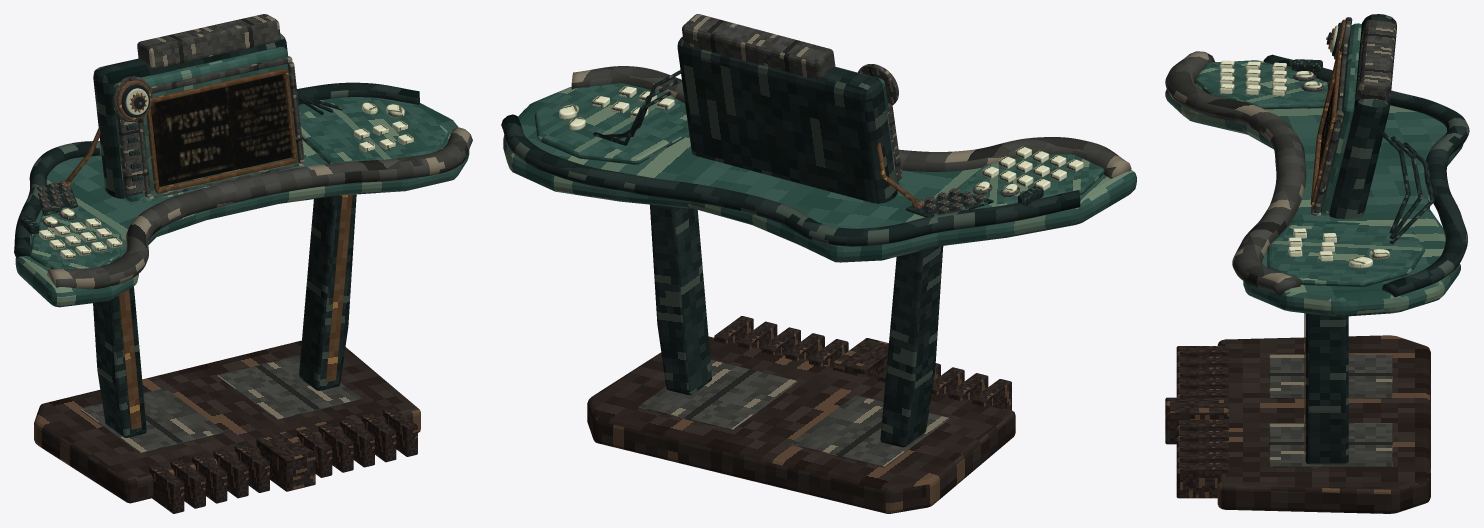
Rendered from destiny_console.obj.
3 renders of one model, left to right at view 1: azimuth 30°, elevation 25°; view 2: azimuth 150°, elevation 25°; view 3: azimuth 270°, elevation 25°, orthographic. The views are drawn at different scales.
Visible parts, largest first — view 1: Heavy_floor_socket, Wide_inset_screen, Segmented_front_rail, Asymmetric_hooked_deck, Right_swept_table_pylon, Right_rounded_control_field, Left_swept_table_pylon, Floor_inset.001, Monitor_top_cap, Rear_perimeter_rail, Monitor_rear_shell, Floor_inset (+21 smaller); view 2: Heavy_floor_socket, Monitor_rear_shell, Asymmetric_hooked_deck, Rear_perimeter_rail, Left_swept_table_pylon, Right_swept_table_pylon, Right_rounded_control_field, Segmented_front_rail, Floor_inset.001, Monitor_top_cap, Floor_inset, Left_hooked_control_field (+2 smaller); view 3: Heavy_floor_socket, Asymmetric_hooked_deck, Segmented_front_rail, Right_rounded_control_field, Right_swept_table_pylon, Rear_perimeter_rail, Monitor_rear_shell, Floor_inset.001, Floor_inset, Left_hooked_control_field, Monitor_top_cap, Monitor_green_frame (+21 smaller).
Boxes of the visible parts, x1,y1,x2,y2 form: Heavy_floor_socket: (34,340,420,503); Wide_inset_screen: (151,74,292,186); Segmented_front_rail: (47,127,472,289); Asymmetric_hooked_deck: (15,97,469,307); Right_swept_table_pylon: (299,194,356,390); Right_rounded_control_field: (299,98,448,163); Left_swept_table_pylon: (93,286,146,437); Floor_inset.001: (217,355,361,420); Monitor_top_cap: (137,14,280,68); Rear_perimeter_rail: (14,82,419,257); Monitor_rear_shell: (93,33,287,198); Floor_inset: (80,388,224,453); Heavy_floor_socket: (587,336,1015,513); Monitor_rear_shell: (677,36,897,203); Asymmetric_hooked_deck: (503,87,1136,262); Rear_perimeter_rail: (501,114,1080,246); Left_swept_table_pylon: (880,246,943,447); Right_swept_table_pylon: (650,204,711,394); Right_rounded_control_field: (534,83,689,164); Segmented_front_rail: (571,66,1131,178); Floor_inset.001: (638,359,798,430); Monitor_top_cap: (682,14,835,79); Floor_inset: (790,395,949,467); Left_hooked_control_field: (956,153,1104,209); Heavy_floor_socket: (1217,335,1430,513); Asymmetric_hooked_deck: (1165,62,1463,316); Segmented_front_rail: (1165,51,1306,295); Right_rounded_control_field: (1267,220,1425,286); Right_swept_table_pylon: (1305,313,1348,464); Rear_perimeter_rail: (1263,54,1469,297); Monitor_rear_shell: (1329,14,1396,218); Floor_inset.001: (1269,423,1392,467); Floor_inset: (1269,354,1392,398); Left_hooked_control_field: (1194,60,1327,109); Monitor_top_cap: (1356,19,1396,101); Monitor_green_frame: (1320,23,1361,214).
Size of the model in its own units: 2.42 by 1.85 by 1.3.
